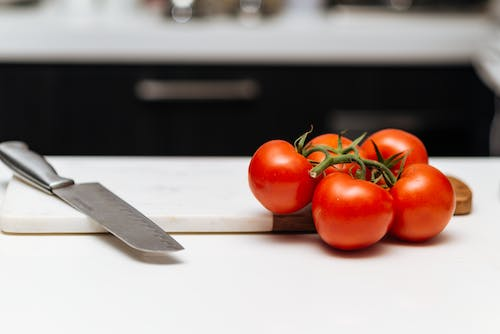knife: (0, 139, 186, 254)
